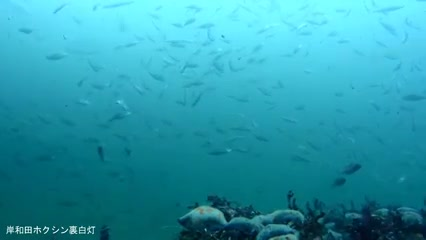smallfish: (370, 1, 406, 28)
